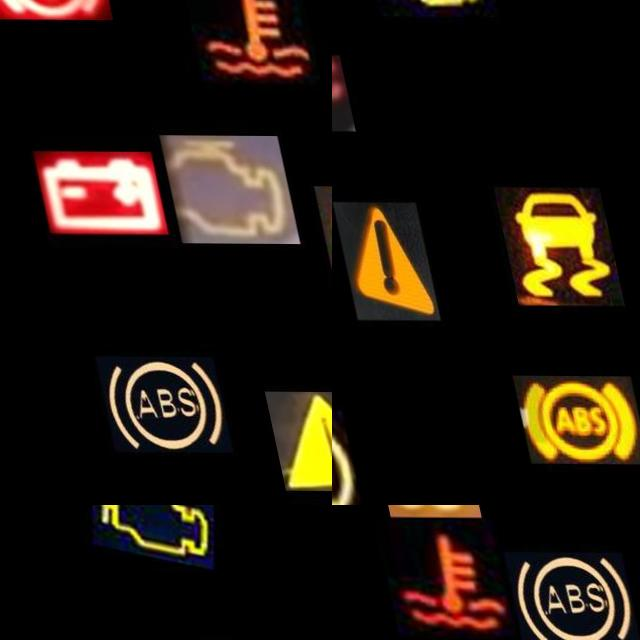Central Warning lamp: (332, 201, 423, 320), (243, 391, 332, 490)
Engine cooling system: (365, 520, 503, 639), (176, 0, 313, 82)
